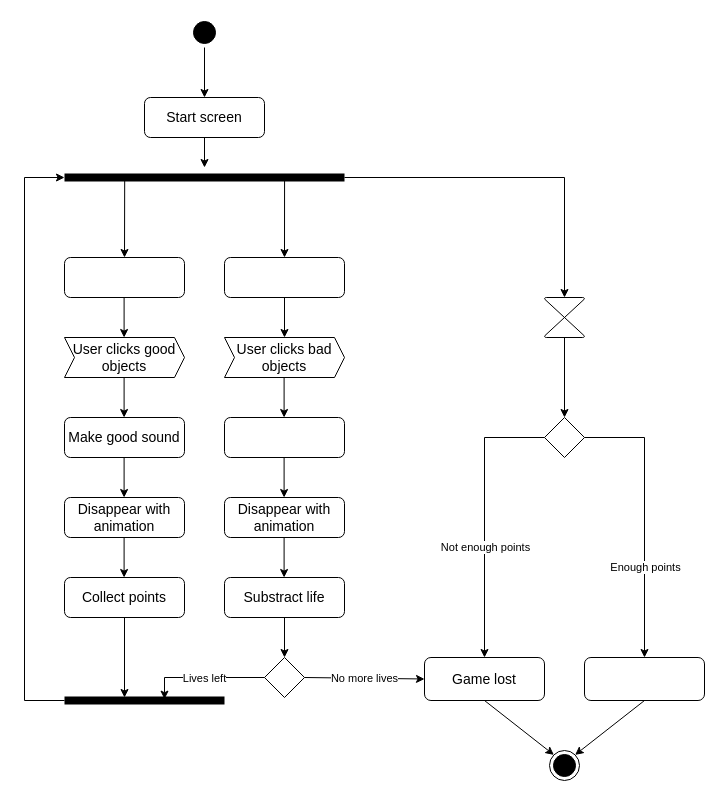
The diagram is 722 pixels wide and 798 high, and some of its shapes have lost their labels. The shapes that lost their labels are listed below. From the top down, each one's box as (x1, y1, x2, y2) in pixels, then its label:
(64, 256, 184, 298): Good objects appear
(224, 256, 344, 298): Bad objects appear
(224, 416, 344, 458): Make bad sound
(584, 656, 704, 700): Game won
